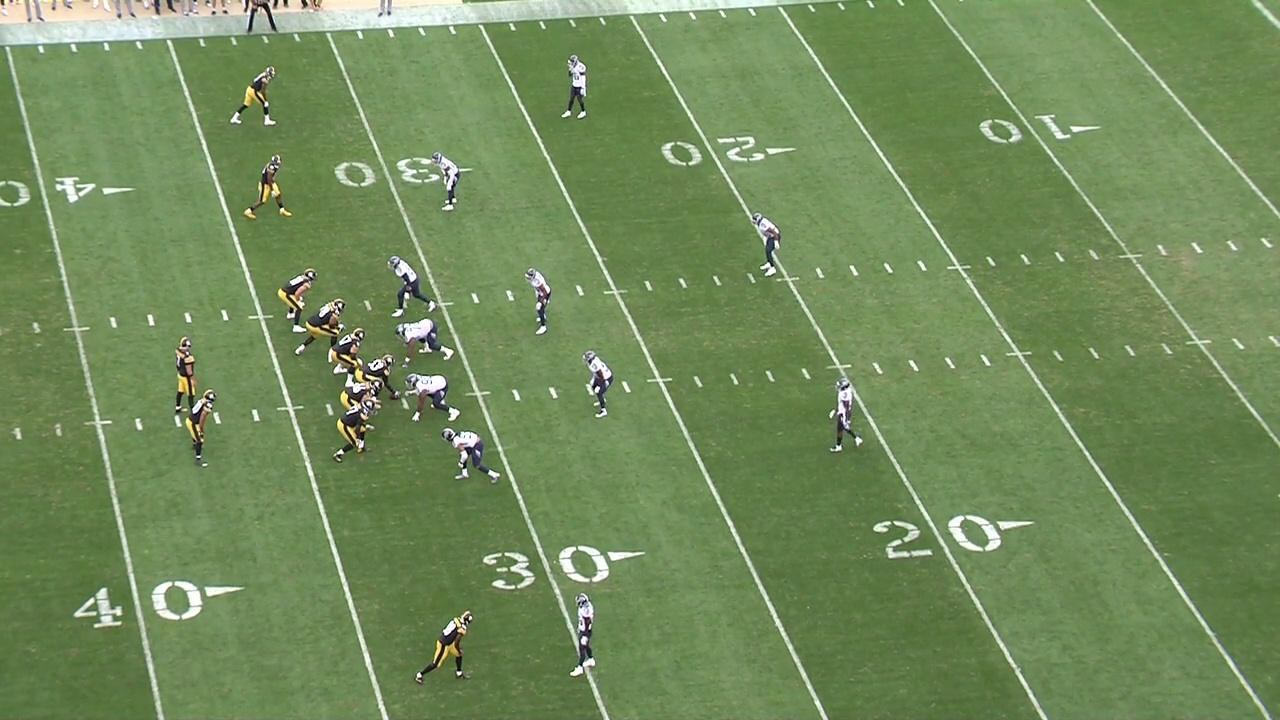defense: (438, 427, 502, 485), (392, 316, 461, 369), (386, 253, 440, 318), (402, 372, 462, 424), (827, 378, 865, 457), (568, 592, 602, 678), (522, 267, 555, 338), (583, 348, 614, 421), (749, 212, 783, 278), (430, 150, 463, 214), (560, 54, 591, 121)
oline: (331, 397, 380, 465), (295, 298, 347, 358), (325, 326, 369, 388), (352, 352, 403, 403), (338, 379, 384, 413)
qb: (169, 335, 202, 418)
ref: (244, 0, 282, 35)
skill: (415, 610, 479, 691), (244, 154, 295, 223), (230, 62, 281, 127), (182, 388, 222, 469), (276, 266, 319, 334)
